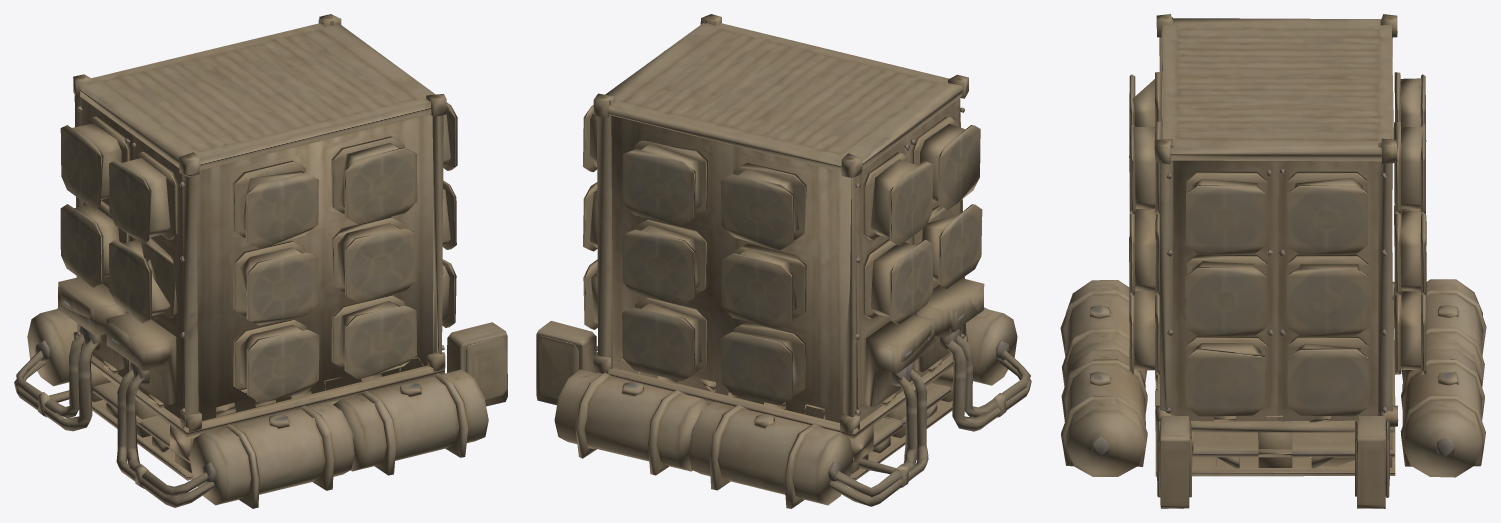
Rendered from us-power-plant.glb.
3 renders of one model, left to right at view 1: azimuth 30°, elevation 25°; view 2: azimuth 150°, elevation 25°; view 3: azimuth 270°, elevation 25°, orthographic. The views are drawn at different scales.
Parts seen in each view (by area): view 1: geometry_0; view 2: geometry_0; view 3: geometry_0.
Boxes of the visible parts, x1,y1,x2,y2 form: geometry_0: [14, 14, 507, 508]; geometry_0: [536, 14, 1031, 508]; geometry_0: [1060, 14, 1486, 508].
Size of the model in its own units: 1 by 0.8488 by 0.9772.
1 material, 1 textured.
